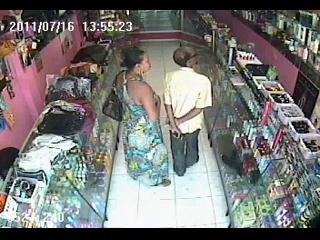Normal: (114, 47, 172, 187), (162, 46, 213, 176)
